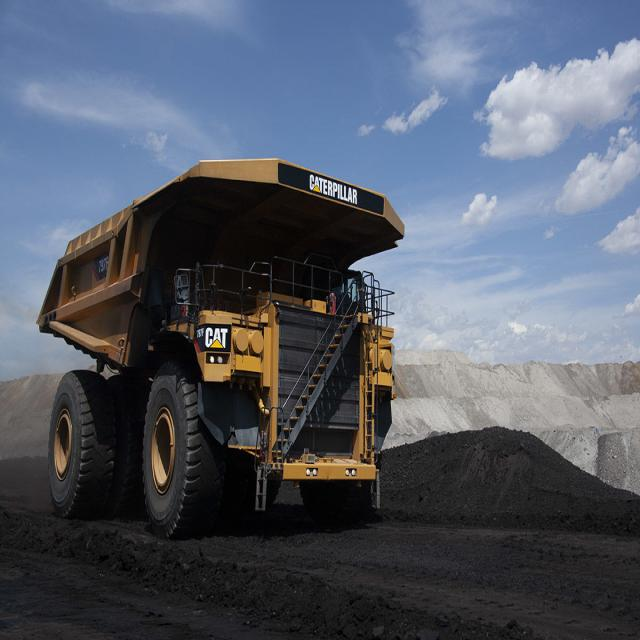dump_truck: (33, 153, 407, 542)
